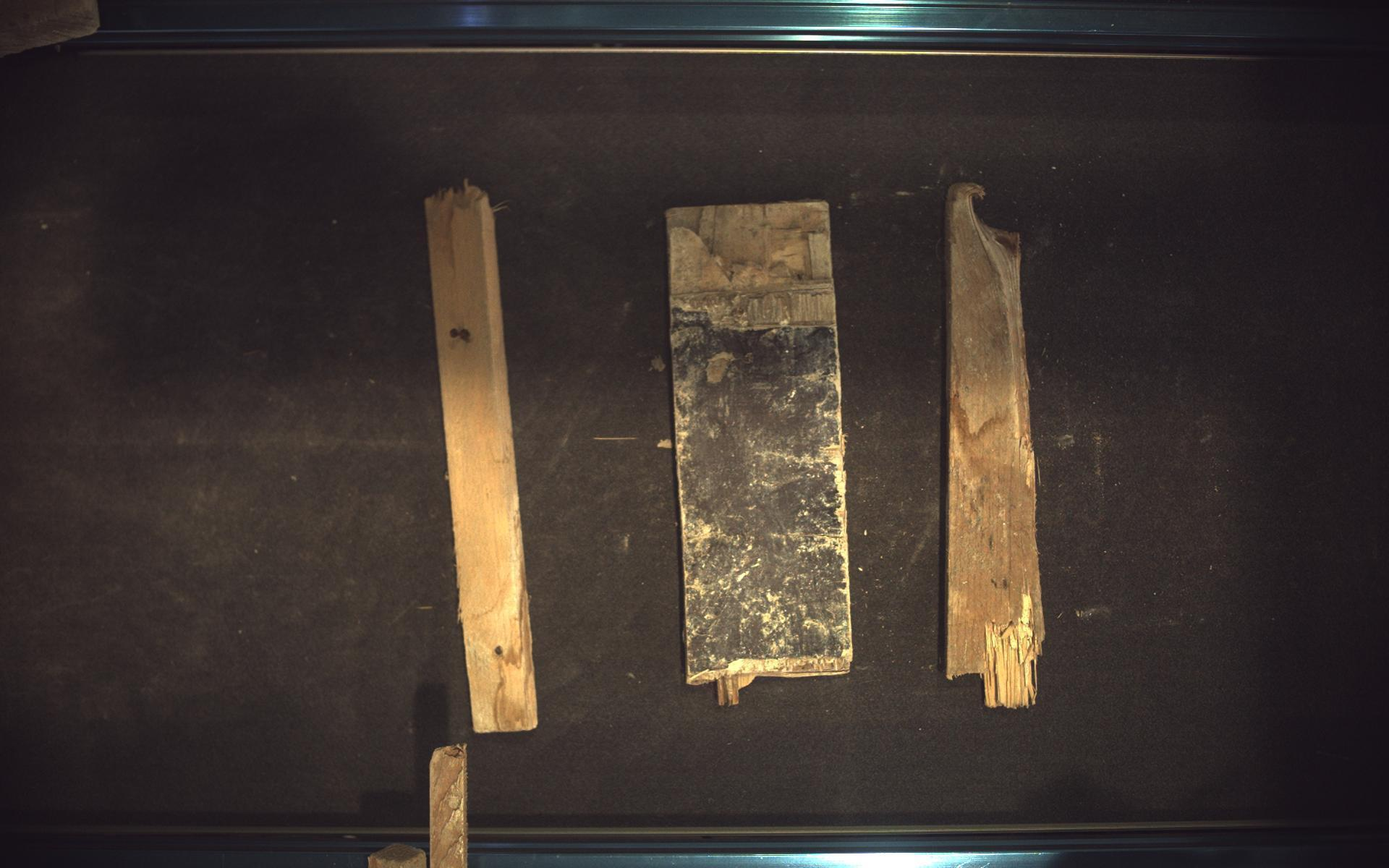wood: (667, 200, 854, 707), (425, 183, 538, 734), (948, 182, 1047, 710)
